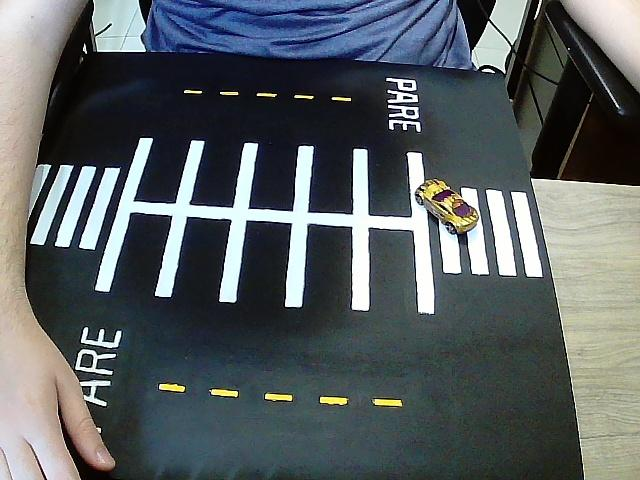Carro: (414, 180, 479, 237)
